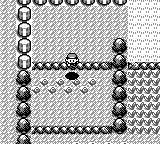captura: (128, 70, 160, 134)
main: (65, 53, 79, 69)
no-caminable: (16, 1, 127, 70), (112, 38, 128, 134), (17, 70, 32, 143)
salto: (32, 126, 112, 134), (33, 62, 112, 70), (128, 62, 160, 70)
